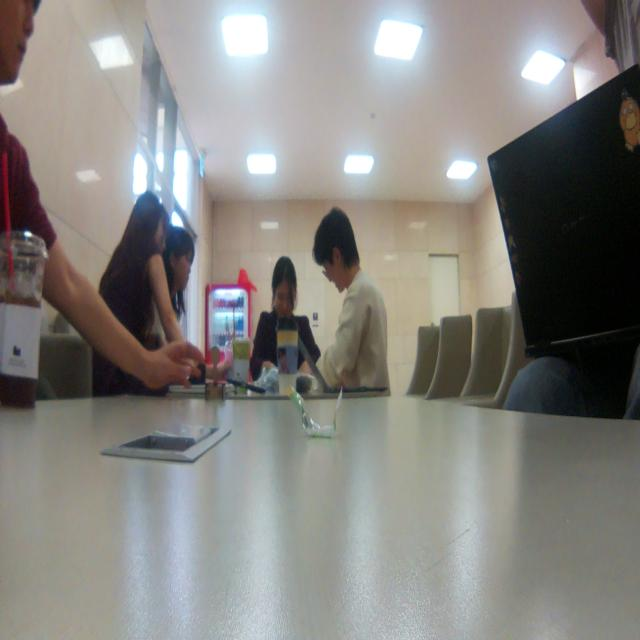target: (204, 346, 232, 400)
